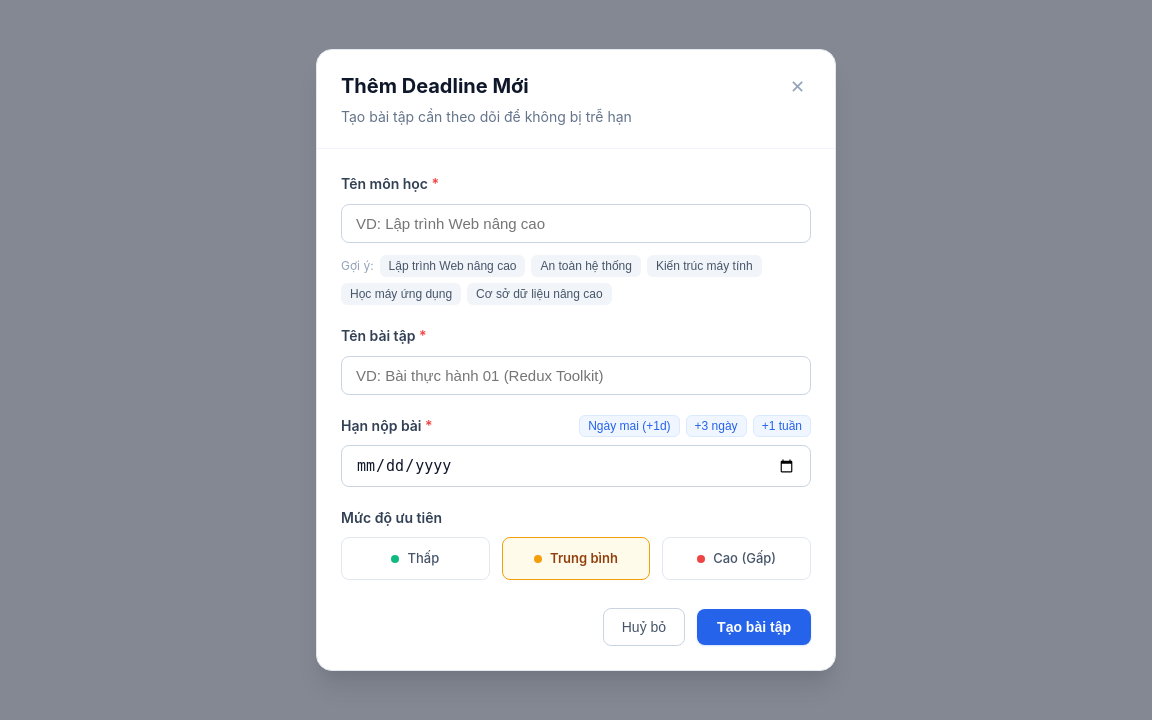
Test: PHẦN C: COMPONENT TESTS (RTL + userEvent) › DeadlineForm Component › kiểm tra tính hợp lệ (validate): hiển thị lỗi khi submit form để trống các trường bắt buộc
Click the button with test id "submit-btn": click(754, 627) [697,609,811,645]
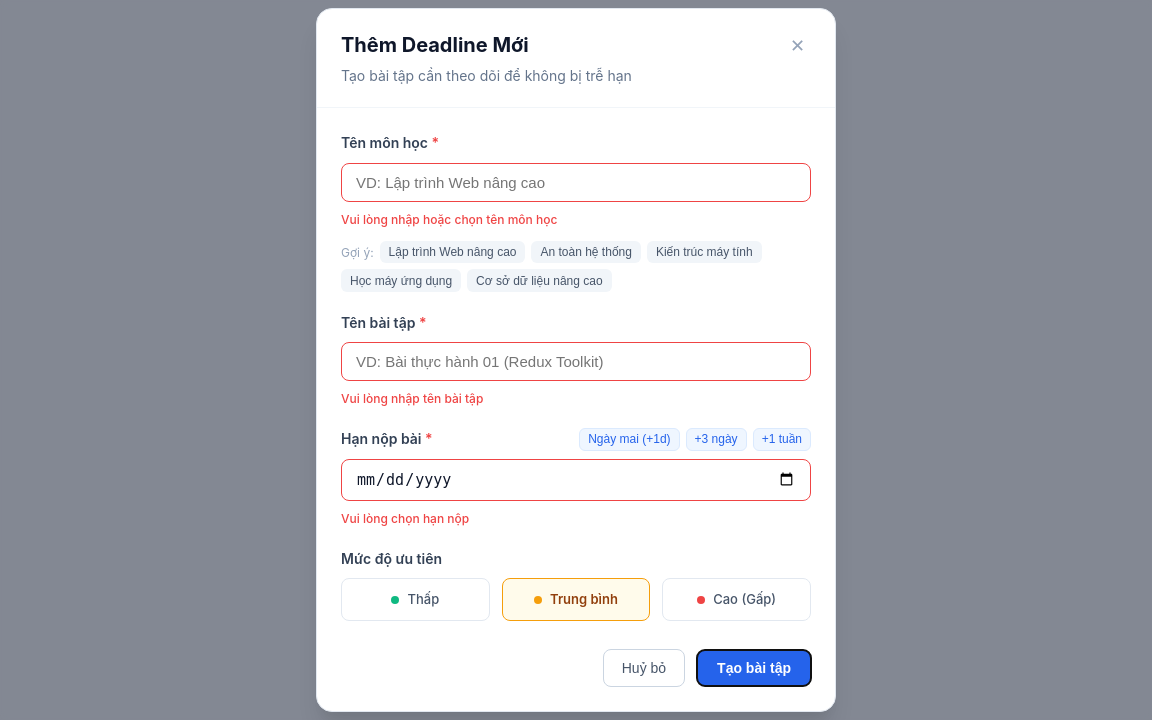
Expected: the text "Vui lòng nhập hoặc chọn tên môn học" is shown, [341,212,557,227]
Expected: the text "Vui lòng nhập tên bài tập" is shown, [341,391,483,406]
Expected: the text "Vui lòng chọn hạn nộp" is shown, [341,511,469,526]
